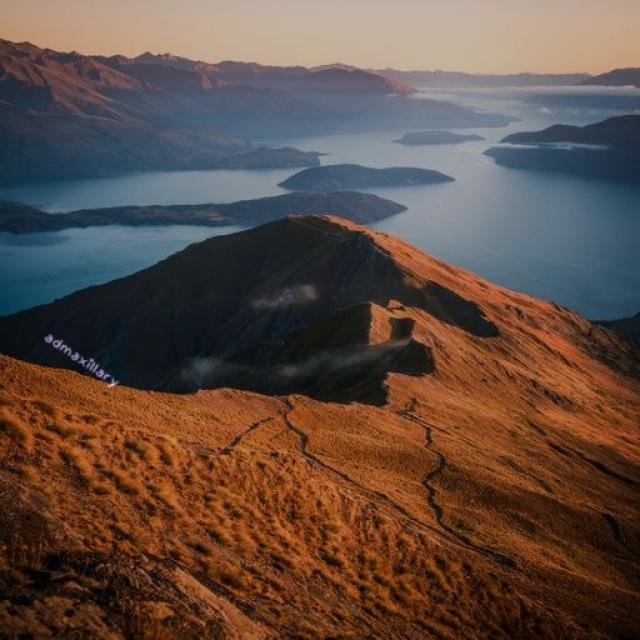watermark: (38, 328, 125, 390)
